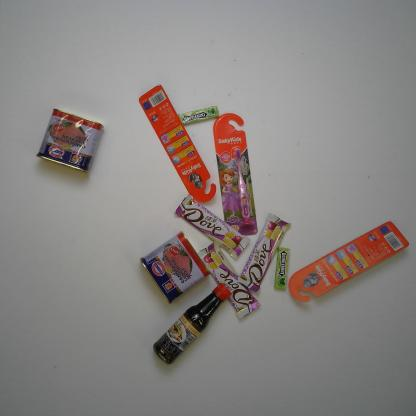Canned Food: (139, 230, 212, 305), (35, 107, 105, 174)
Chocolate: (197, 240, 261, 320), (174, 194, 251, 260), (236, 212, 290, 294)
Gum: (177, 105, 220, 125), (273, 247, 290, 290)
Personal Hygiene: (289, 221, 409, 303), (138, 84, 217, 203), (212, 113, 258, 236)
Seasoner: (152, 282, 233, 365)
